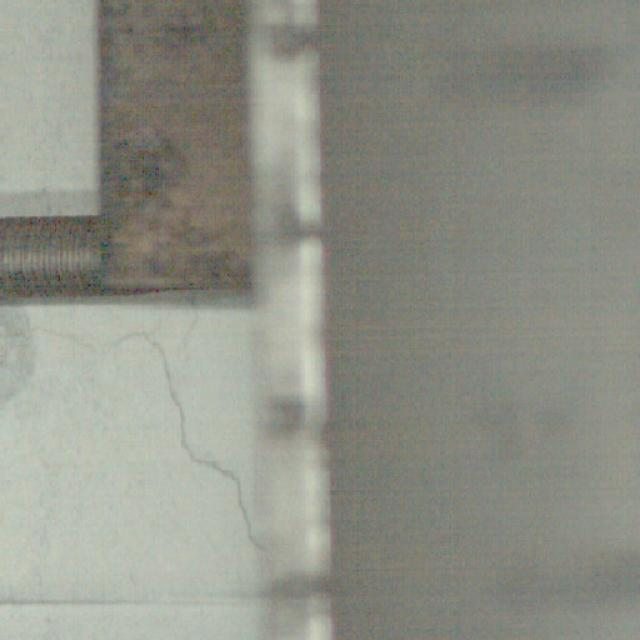Network: (12, 301, 266, 556)
